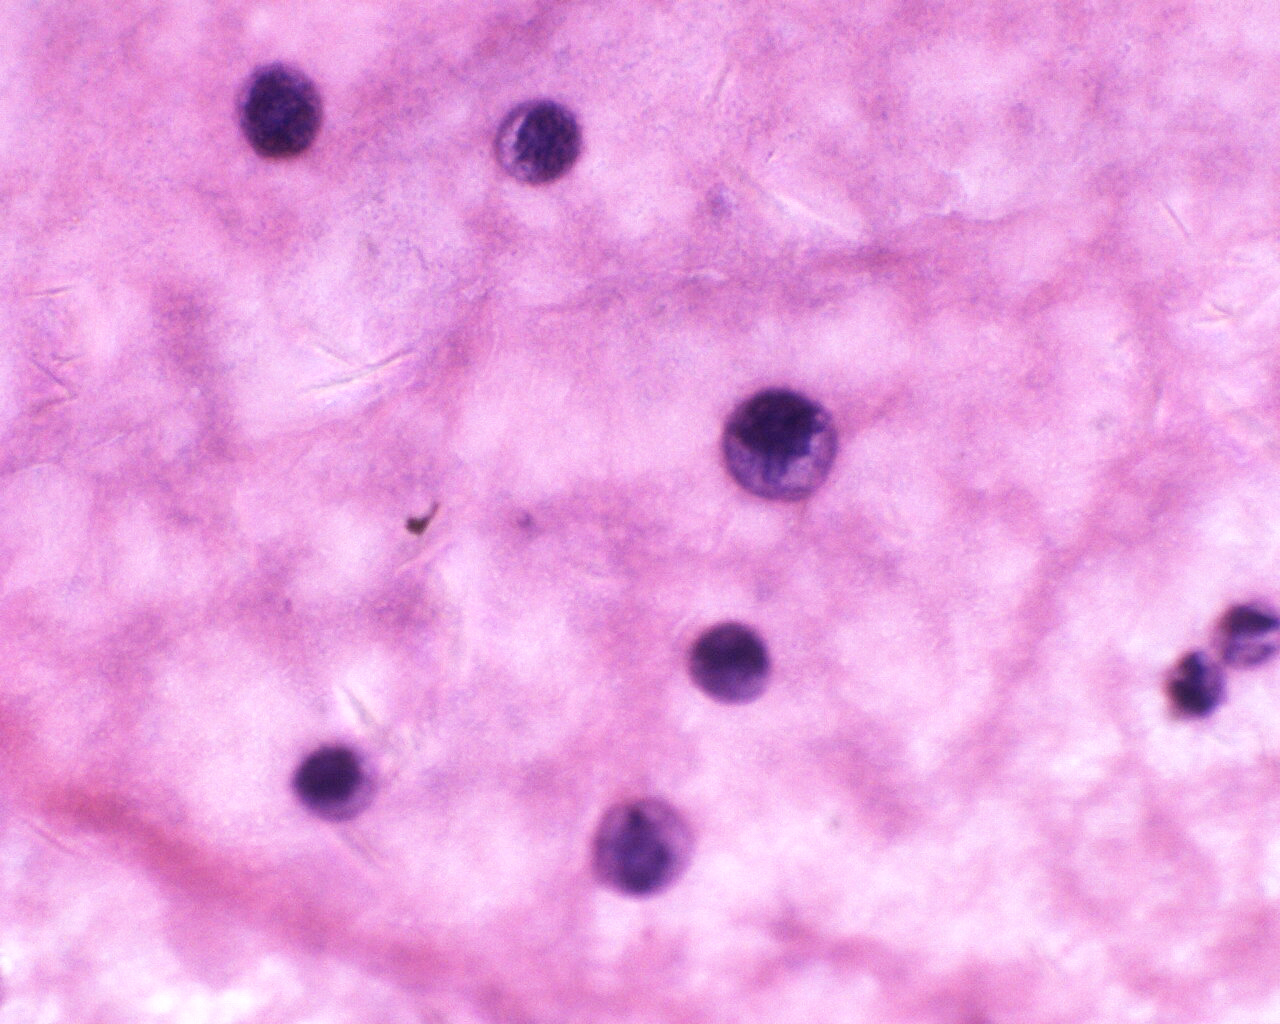ab: (720, 382, 842, 506), (232, 59, 332, 164), (489, 96, 589, 189), (684, 619, 779, 709), (286, 739, 378, 829)
